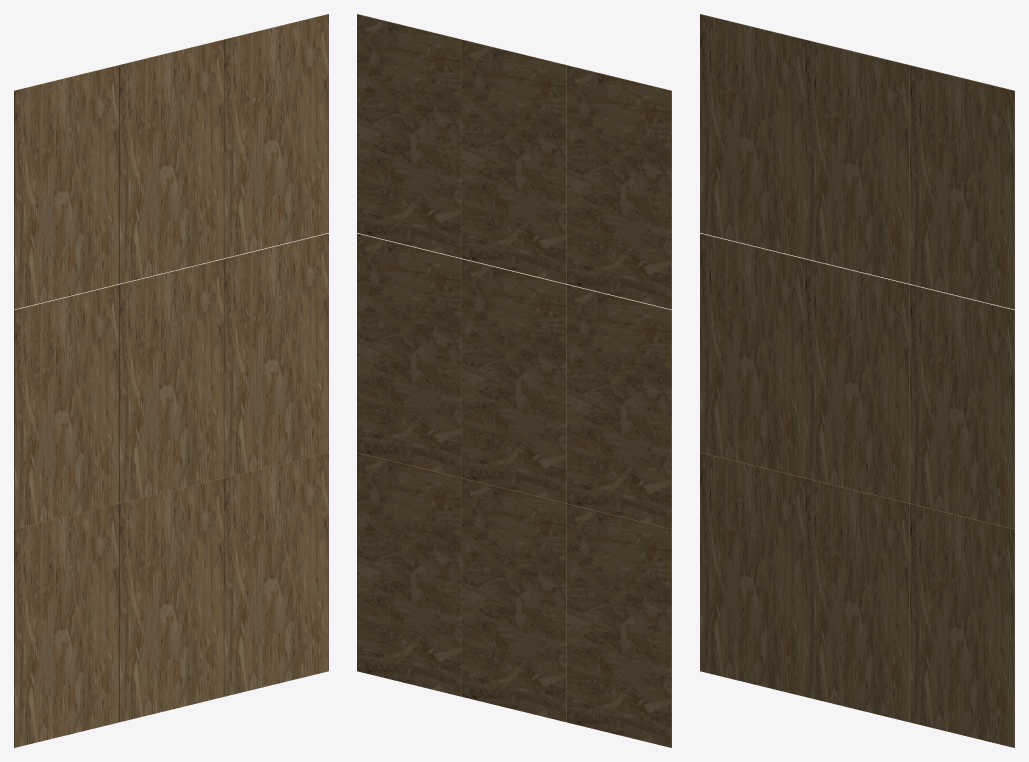
The model's file is osb9.fbx.
The picture shows the model from 3 angles, left to right: view 1: azimuth 30°, elevation 25°; view 2: azimuth 150°, elevation 25°; view 3: azimuth 330°, elevation 25°; orthographic projection.
Visible parts, largest first — view 1: Plane.002; view 2: Plane.002; view 3: Plane.002.
Boxes of the visible parts, x1,y1,x2,y2 form: Plane.002: [14, 14, 328, 747]; Plane.002: [357, 14, 671, 747]; Plane.002: [700, 14, 1014, 747].
Size of the model in its own units: 376 by 752 by 1.
1 material, 1 textured.
